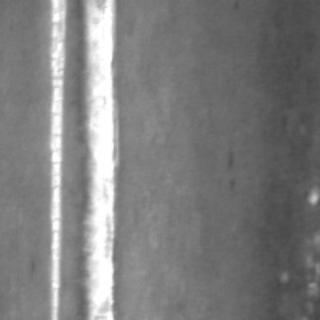inclusion: (220, 136, 240, 192)
scratches: (74, 0, 118, 316), (45, 0, 69, 316)
